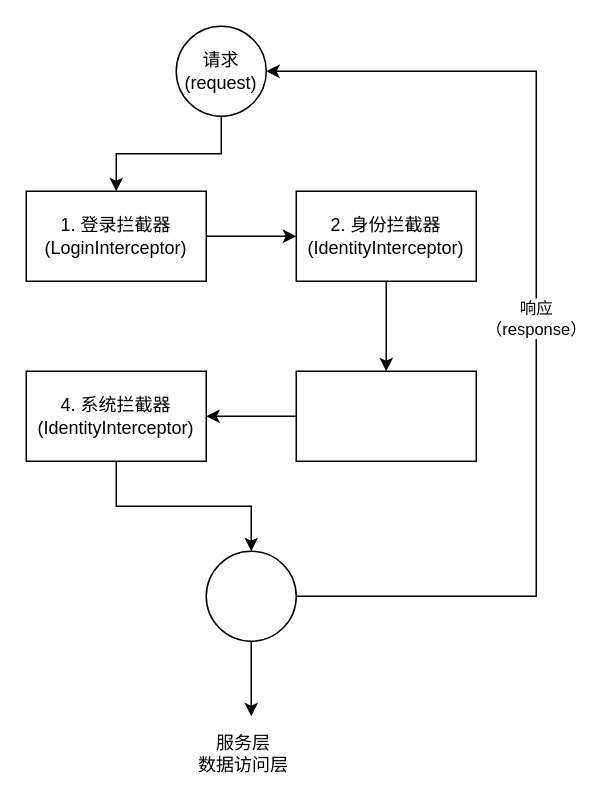
Image size: 612x801. Some labels were removed from this diagram. The shapes that lost their labels are listed below. From the top down, each one's centre as x and y in pixels, then its label:
At (x=385, y=415): "3. 权限拦截器 (Authoritynterceptor)".
At (x=250, y=595): "控制层 (Controlle)".
